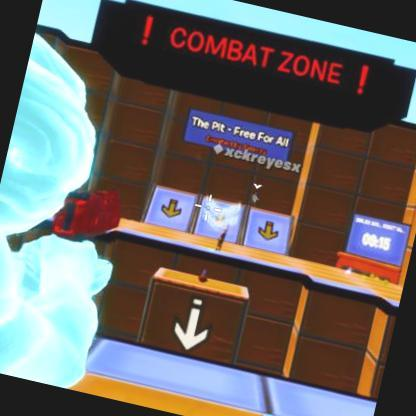person: (212, 227, 228, 251), (250, 190, 262, 206)
